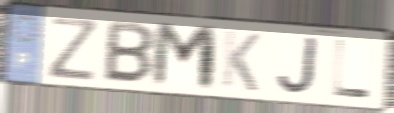B: (101, 18, 156, 87)
J: (275, 35, 320, 96)
K: (219, 28, 263, 94)
L: (331, 37, 373, 100)
M: (149, 19, 220, 94)
Z: (45, 15, 101, 83)
